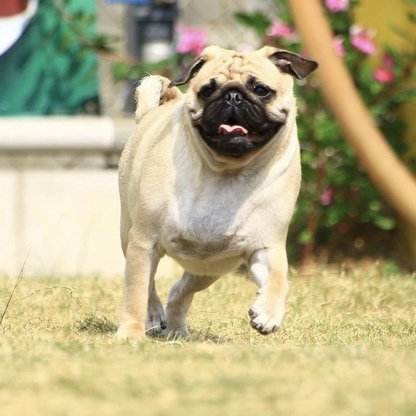Pug: (105, 38, 323, 347)
